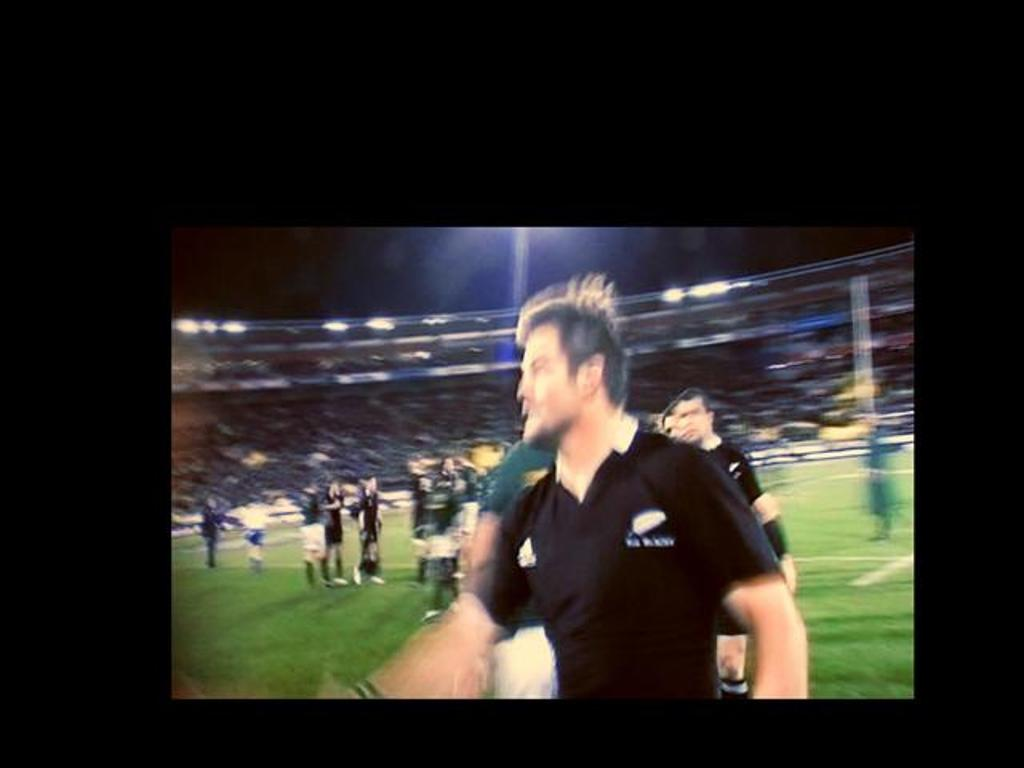face: (514, 327, 580, 443), (680, 401, 707, 438)
